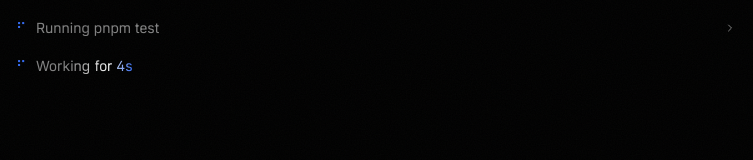
Test: MessagesTimeline › keeps a manually opened action row open when its live tool completes mid-run
Later steps or results of the test are not shown.
Click the button "⠋ Running pnpm test".
click(376, 28)  # box [16,16,736,40]
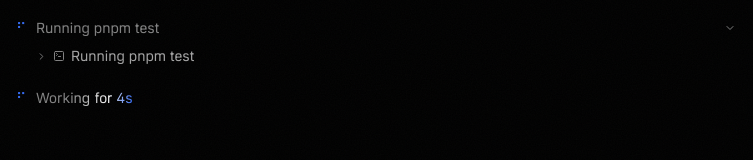
Expected: the button "⠋ Running pnpm test" is expanded, [16,16,736,40]
